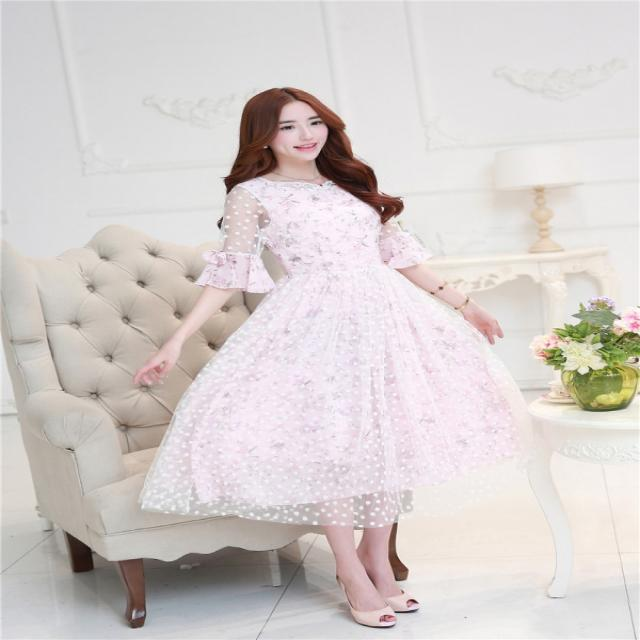clothes: (150, 177, 505, 530)
